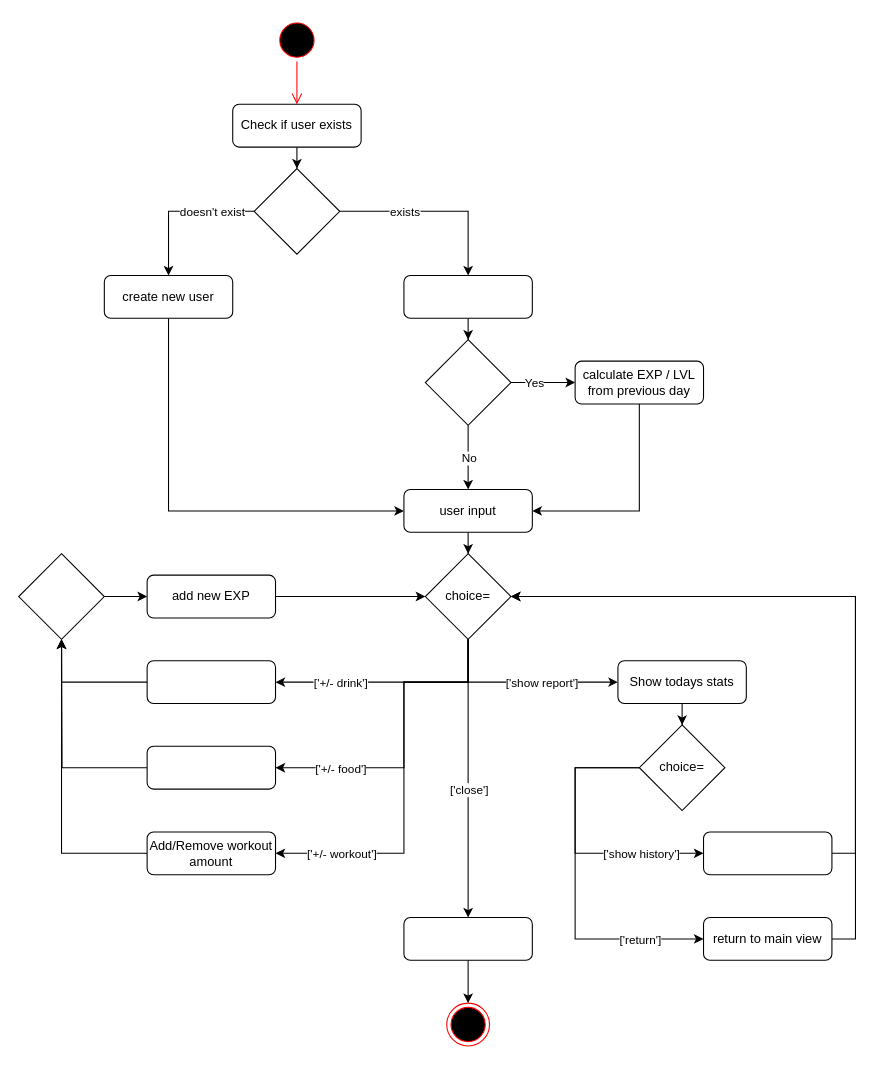
Image size: 883x1065. Some labels were removed from this diagram. The centre of each missing label's shape, as x and y in pixels:
"Add/Remove drink amount" belongs at (211,682).
"Add/Remove food amount" belongs at (211,767).
"Close Extension" belongs at (467,938).
"is new day" belongs at (467,296).
"Show history" belongs at (767,853).
